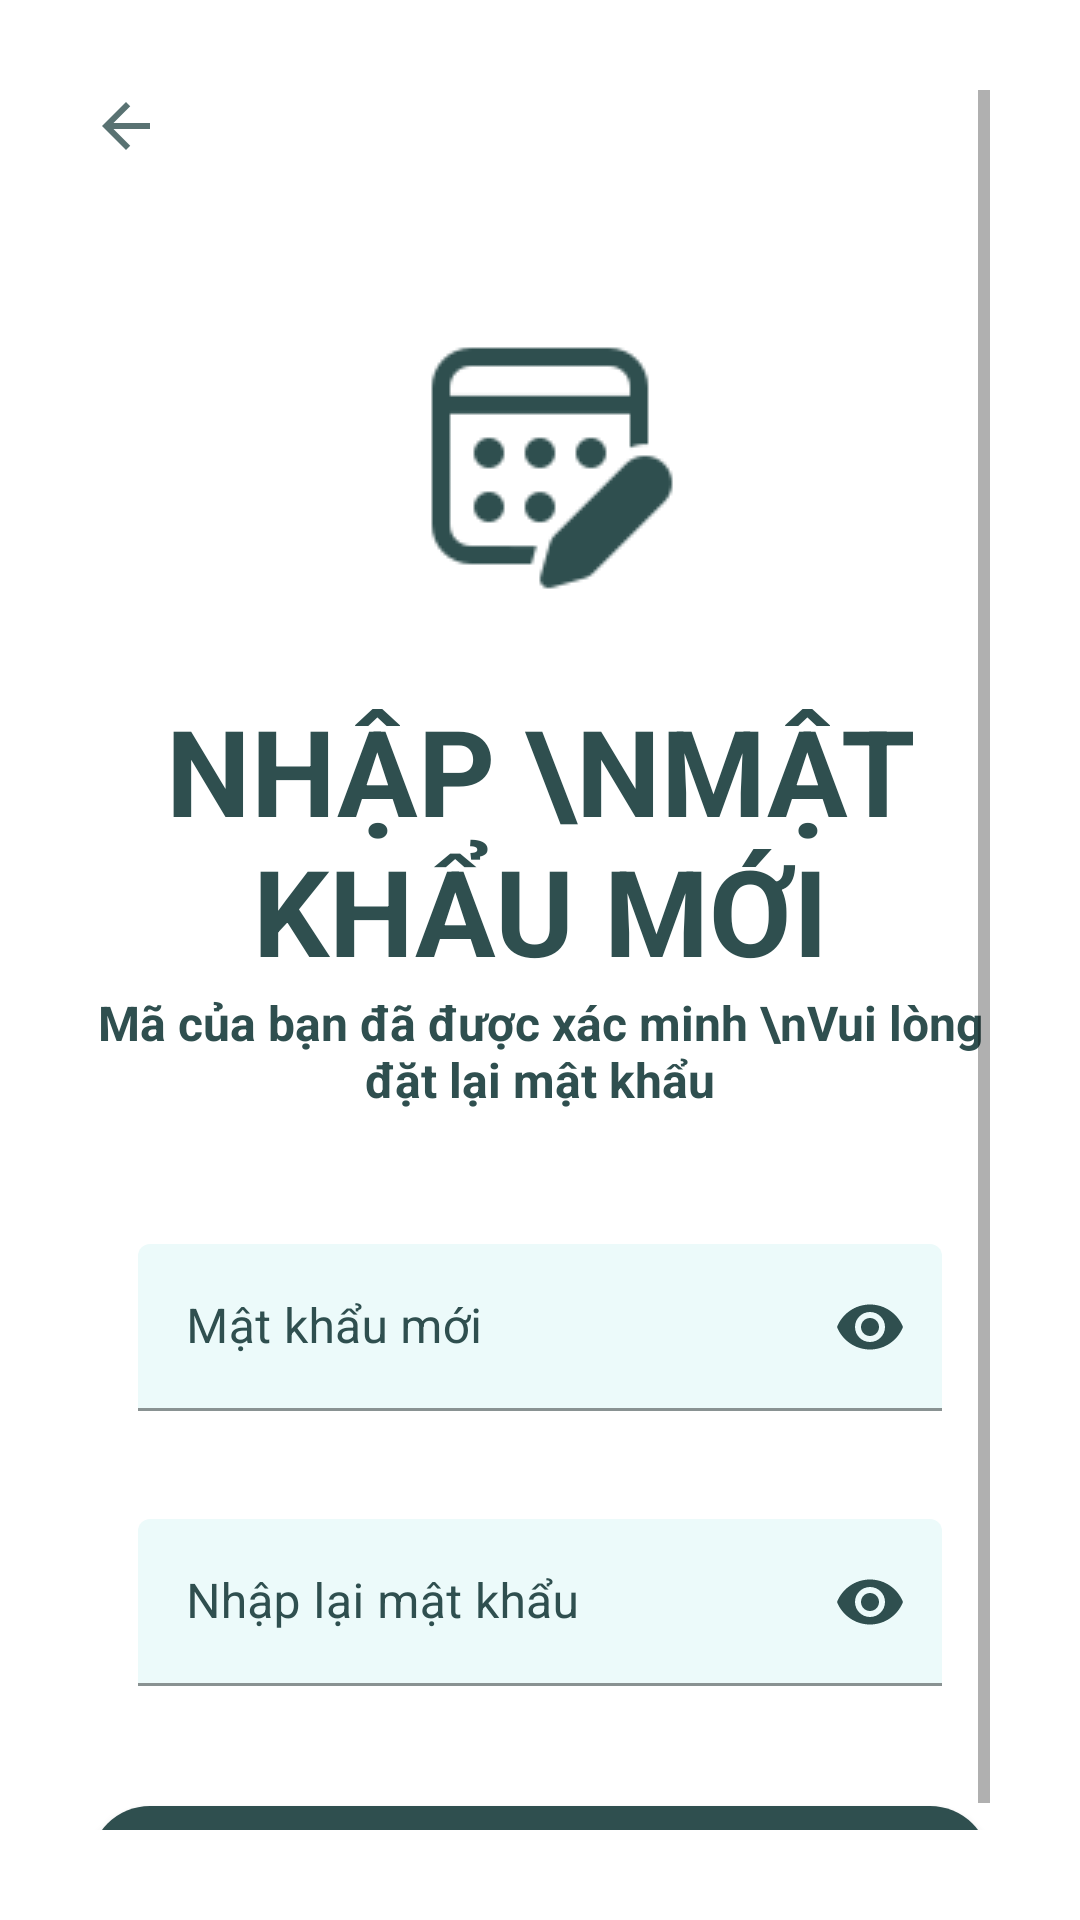

Where icons sit on this 1080x1920 app screen, as (x1, y1, x2, y2):
back: (102, 102, 150, 150)
